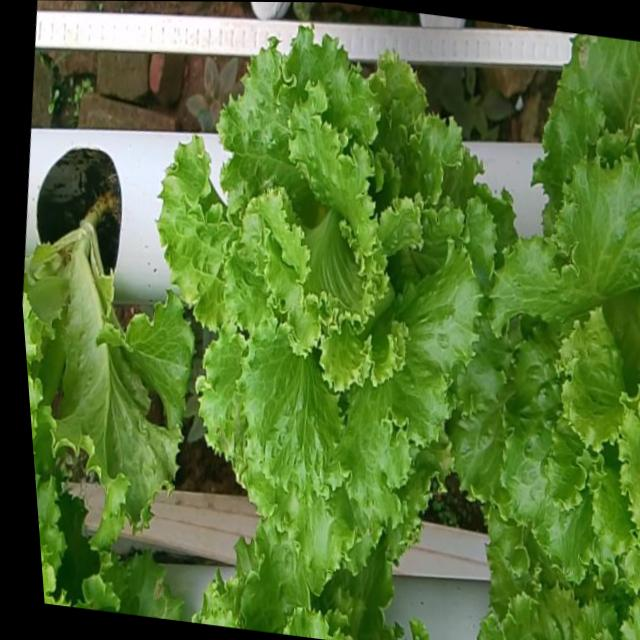Mature: (167, 19, 504, 561), (460, 137, 640, 572)
